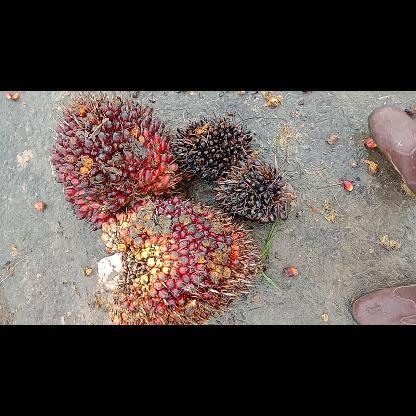TBS abnormal: (170, 110, 258, 182), (213, 155, 299, 226)
TBS masak: (93, 194, 263, 324), (48, 92, 184, 232)
